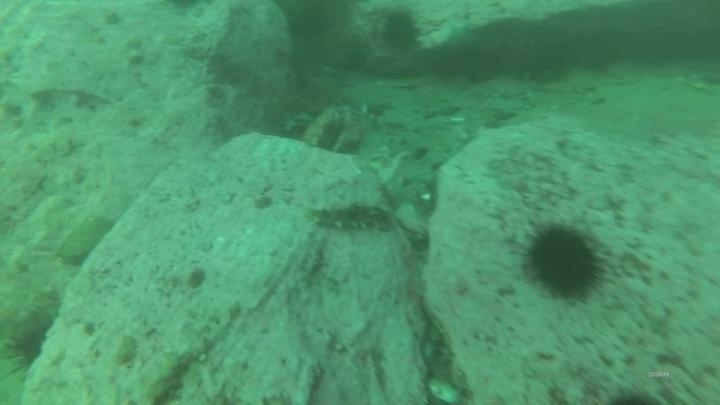echinus: (521, 222, 606, 301), (8, 321, 54, 373), (379, 9, 422, 51)
holothurian: (307, 199, 394, 236)
